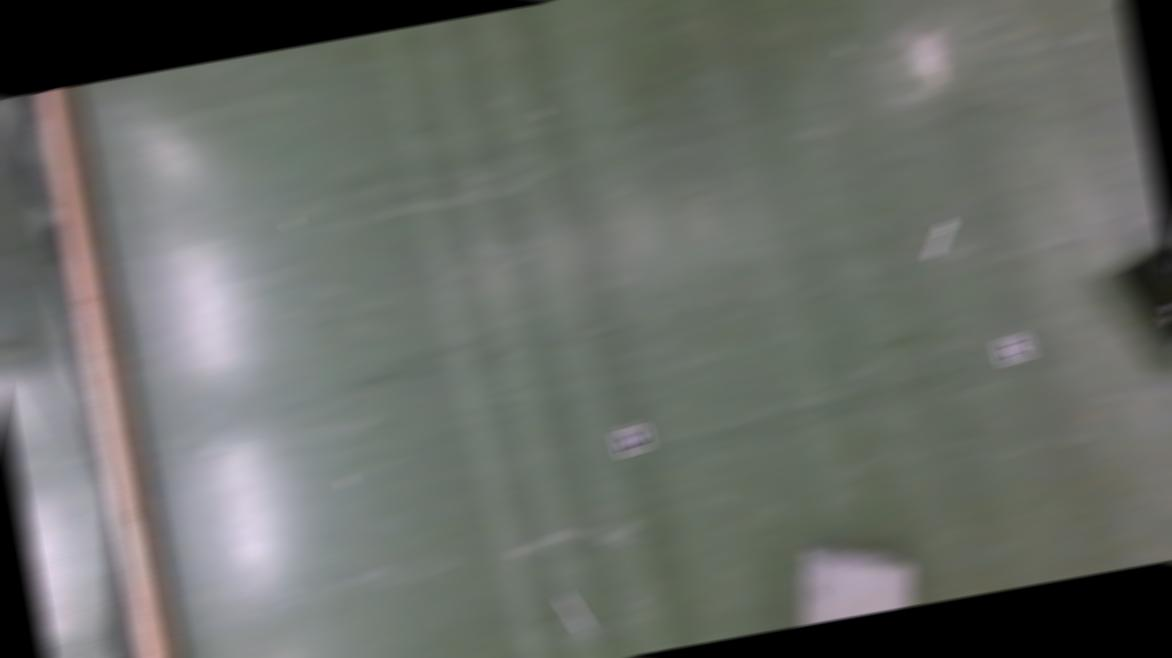probes: (555, 590, 591, 634), (921, 219, 957, 258)
rako: (782, 528, 921, 624), (1114, 243, 1172, 380)
